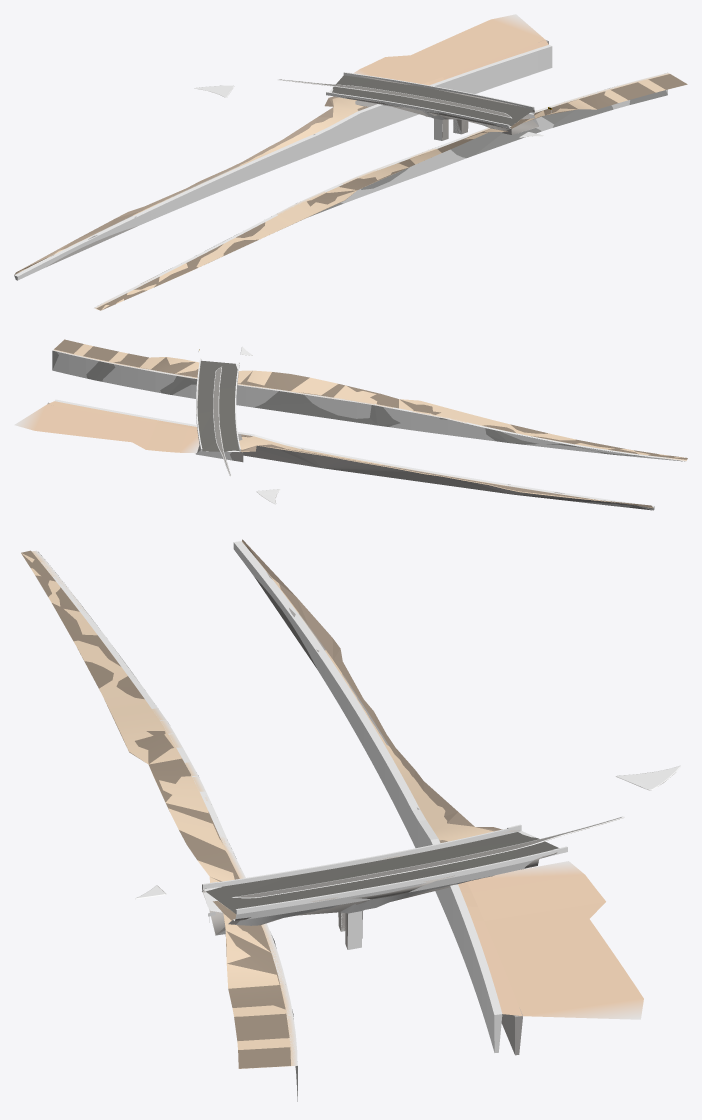
File: sidewalk_bridge_NW.dae
The picture shows the model from 3 angles, top to bottom: view 1: azimuth 30°, elevation 25°; view 2: azimuth 150°, elevation 25°; view 3: azimuth 270°, elevation 25°; orthographic projection. The views are drawn at different scales.
Visible parts, largest first — view 1: Colmesh-1, sidewalk_bridge_NW_a2000, sidewalk_bridge_NW_a3000; view 2: Colmesh-1, sidewalk_bridge_NW_a2000, sidewalk_bridge_NW_a3000; view 3: Colmesh-1, sidewalk_bridge_NW_a2000, sidewalk_bridge_NW_a3000.
Part boxes in pixels (x1,y1,x2,y2): Colmesh-1: (14, 14, 669, 310); sidewalk_bridge_NW_a2000: (14, 40, 687, 310); sidewalk_bridge_NW_a3000: (107, 72, 651, 302); Colmesh-1: (14, 340, 686, 509); sidewalk_bridge_NW_a2000: (47, 339, 687, 510); sidewalk_bridge_NW_a3000: (57, 349, 671, 458); Colmesh-1: (21, 541, 680, 1089); sidewalk_bridge_NW_a2000: (21, 539, 675, 1101); sidewalk_bridge_NW_a3000: (41, 562, 520, 1064).
Size of the model in its own units: 311 by 151 by 21.94.
